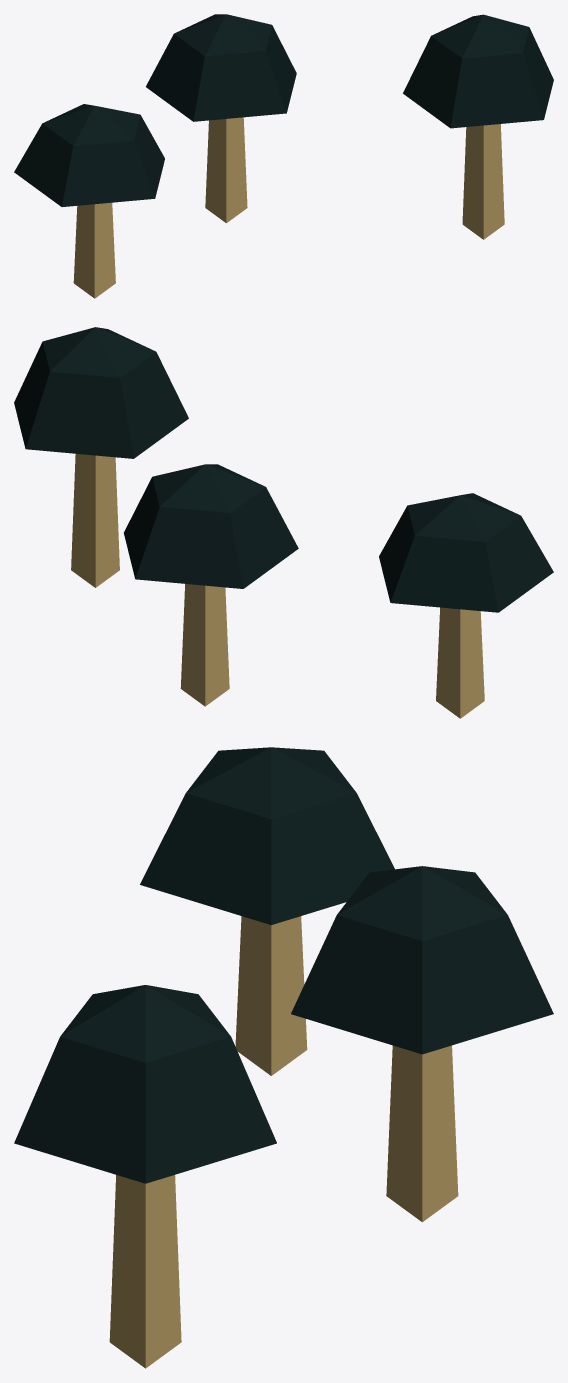
File: Mushroom_Cluster_03.fbx
3 views of the same model, one above another, from view 1: azimuth 30°, elevation 25°; view 2: azimuth 150°, elevation 25°; view 3: azimuth 270°, elevation 25° (orthographic). The views are drawn at different scales.
Visible parts, largest first — view 1: Mushroom_Cluster_03_Mesh; view 2: Mushroom_Cluster_03_Mesh; view 3: Mushroom_Cluster_03_Mesh.
Boxes of the visible parts, x1=… form: Mushroom_Cluster_03_Mesh: x1=14, y1=14, x2=553, y2=298; Mushroom_Cluster_03_Mesh: x1=14, y1=327, x2=553, y2=718; Mushroom_Cluster_03_Mesh: x1=14, y1=747, x2=553, y2=1368.
Bounding box in the file's own units: 0.5107 × 0.219 × 0.2926.
Materials: 1 (1 with a texture image).
